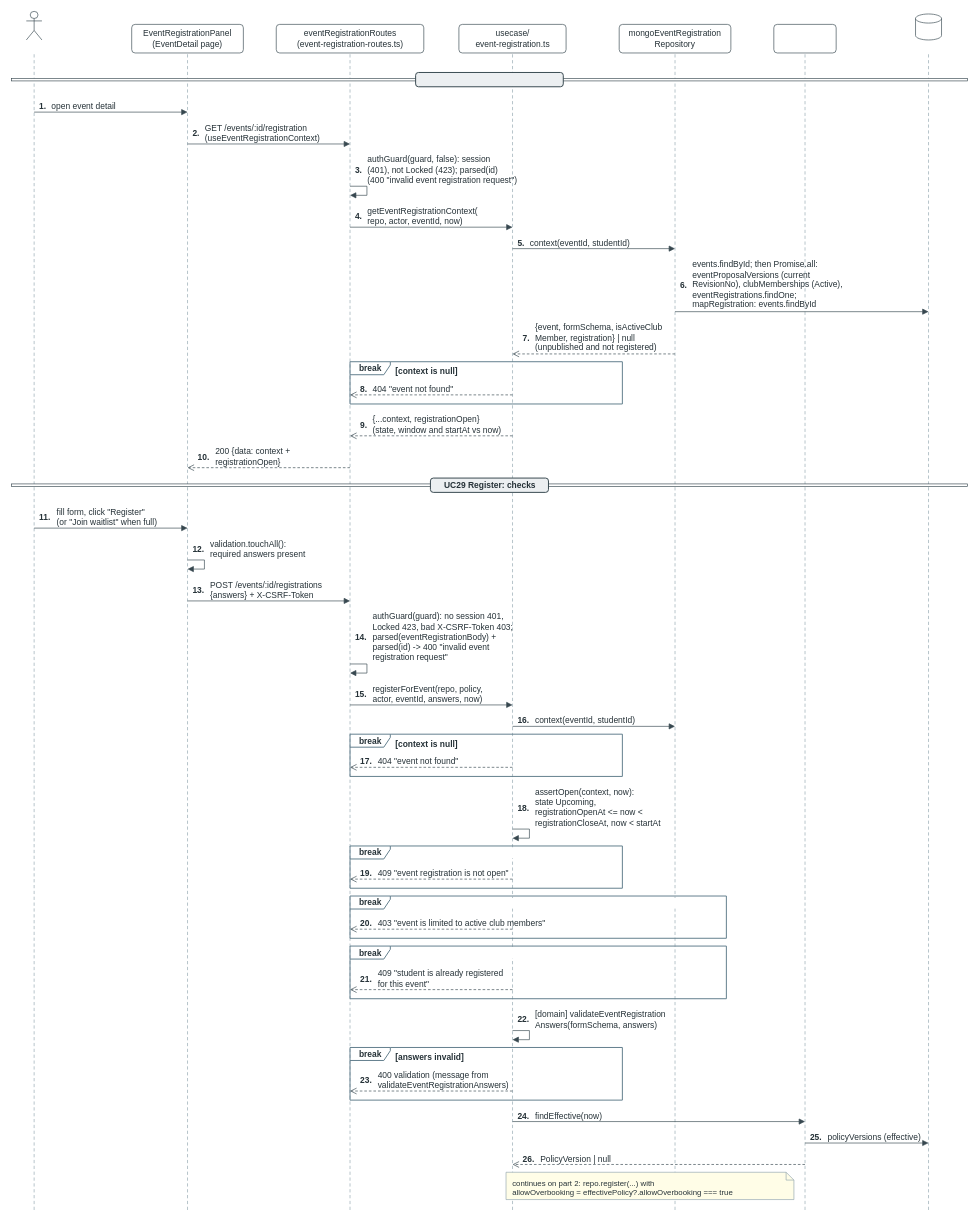
Some shapes in this 979 by 1223 pixel diagram are drawn without their labels. Here are the shapes that lost their labels. From the top down, the centre of each, then its label:
point 34,25: Student
point 804,38: mongoPolicy Repository
point 928,26: MongoDB
point 489,79: UC29 Register: load context
point 471,853: [registration window not open]
point 543,903: [audienceScope = "MEMBERS_ONLY" and not isActiveClubMember]
point 513,953: [context.registration and state != "Cancelled"]
